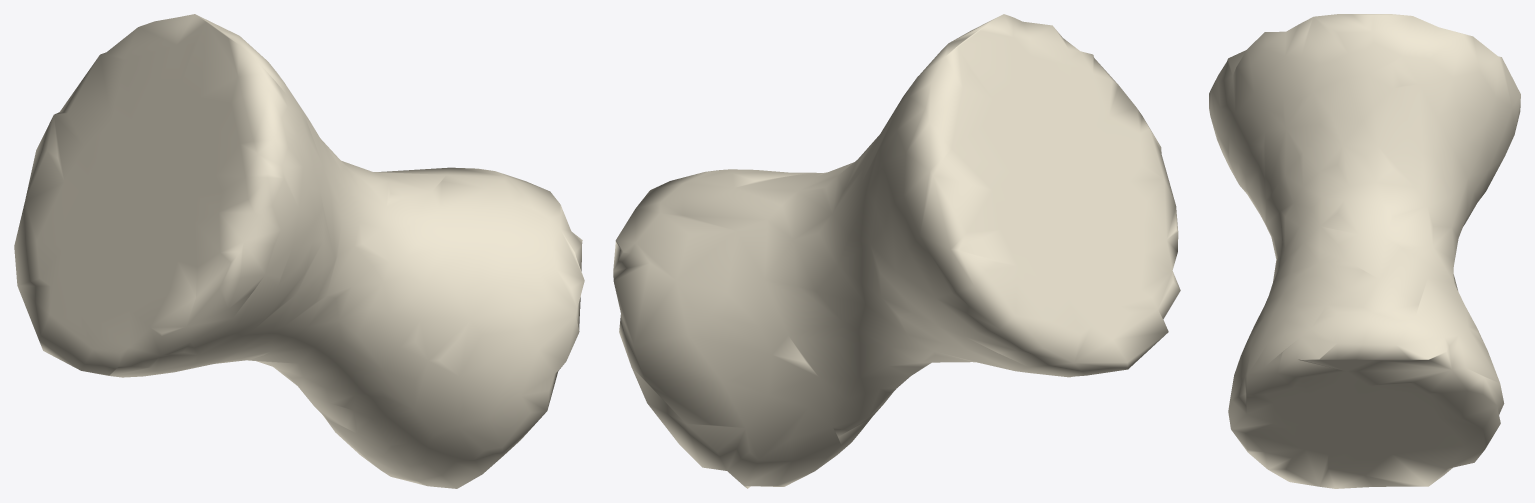
The model's file is caudal_6.glb.
The picture shows the model from 3 angles, left to right: view 1: azimuth 30°, elevation 25°; view 2: azimuth 150°, elevation 25°; view 3: azimuth 270°, elevation 25°; orthographic projection. The views are drawn at different scales.
Parts seen in each view (by area): view 1: geometry_0; view 2: geometry_0; view 3: geometry_0.
Part boxes in pixels (<box>): geometry_0: <box>14,14,584,488</box>; geometry_0: <box>613,14,1180,488</box>; geometry_0: <box>1209,14,1520,488</box>.
Size of the model in its own units: 0.0656 by 0.061 by 0.0429.
